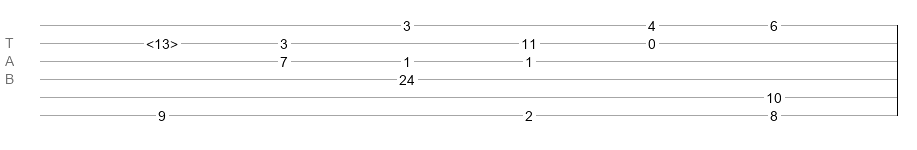0: (648, 36, 656, 46)
1: (403, 54, 411, 64), (525, 54, 533, 64)
10: (766, 90, 782, 100)
11: (521, 36, 537, 46)
2: (525, 108, 533, 118)
24: (399, 72, 415, 82)
3: (280, 36, 288, 46), (403, 18, 411, 28)
4: (648, 18, 656, 28)
6: (770, 18, 778, 28)
7: (280, 54, 288, 64)
8: (770, 108, 778, 118)
9: (158, 108, 166, 118)
harmonic: (146, 36, 178, 46)
